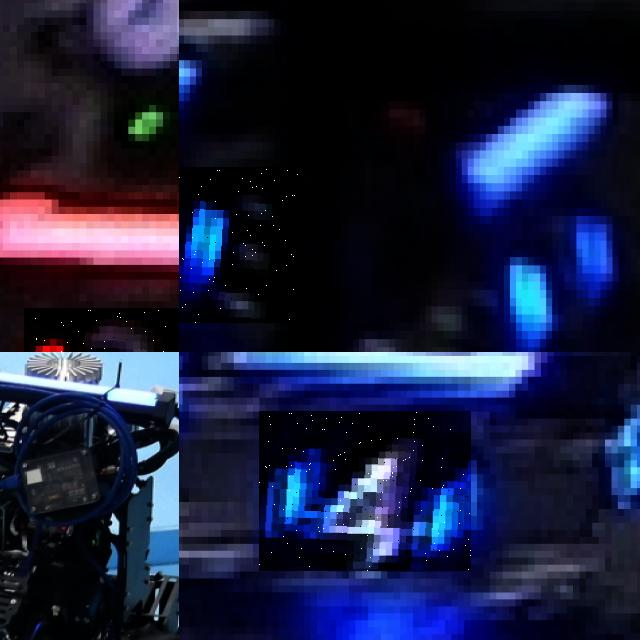B3: (179, 167, 298, 323)
B4: (259, 412, 471, 572)
R3: (24, 308, 179, 352)
